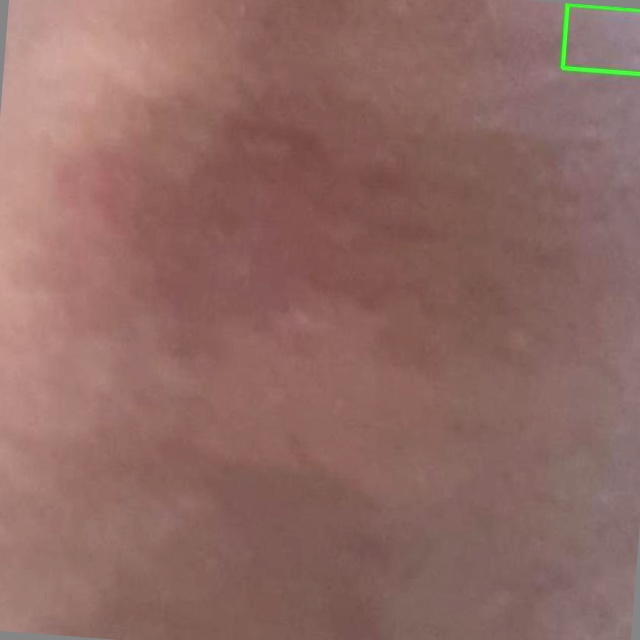Seborrheic Dermatitis: (562, 4, 639, 74)
